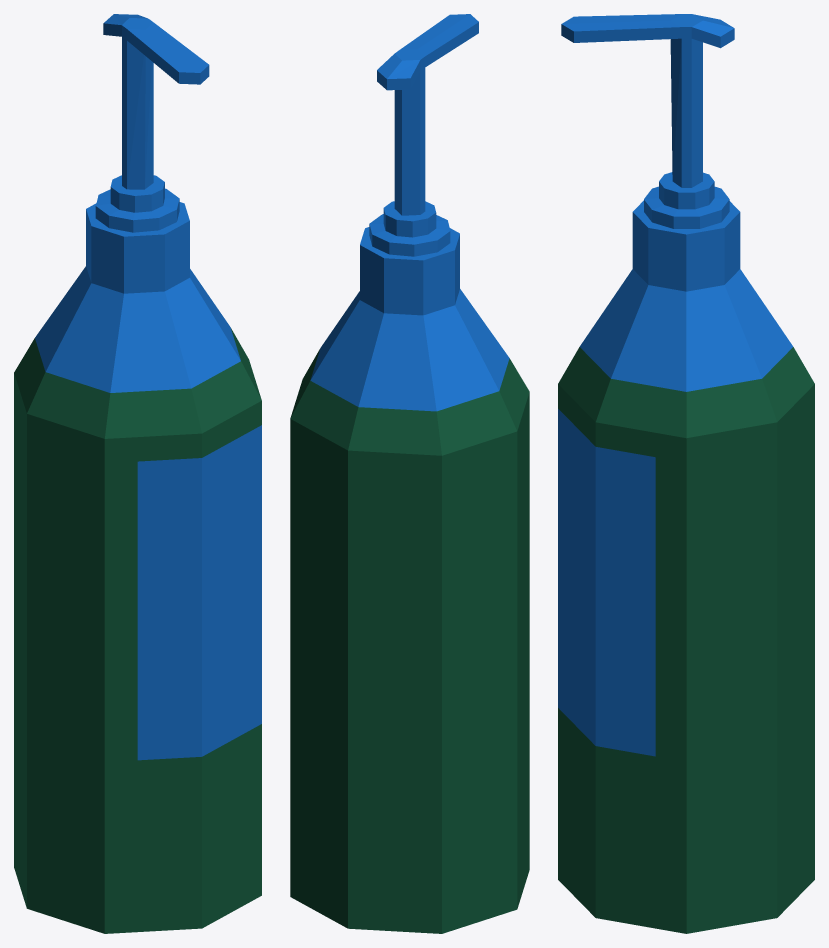
The model's file is T_syrup.fbx.
The picture shows the model from 3 angles, left to right: view 1: azimuth 30°, elevation 25°; view 2: azimuth 150°, elevation 25°; view 3: azimuth 270°, elevation 25°; orthographic projection. The views are drawn at different scales.
Parts seen in each view (by area): view 1: syrup; view 2: syrup; view 3: syrup.
Part boxes in pixels (x1,y1,x2,y2): syrup: (14, 14, 261, 933); syrup: (290, 14, 529, 933); syrup: (558, 14, 814, 933).
Size of the model in its own units: 11.96 by 44.13 by 11.96.
